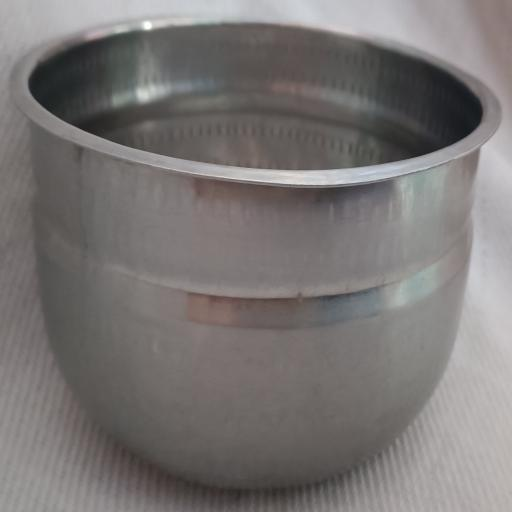vessel: (11, 19, 500, 487)
